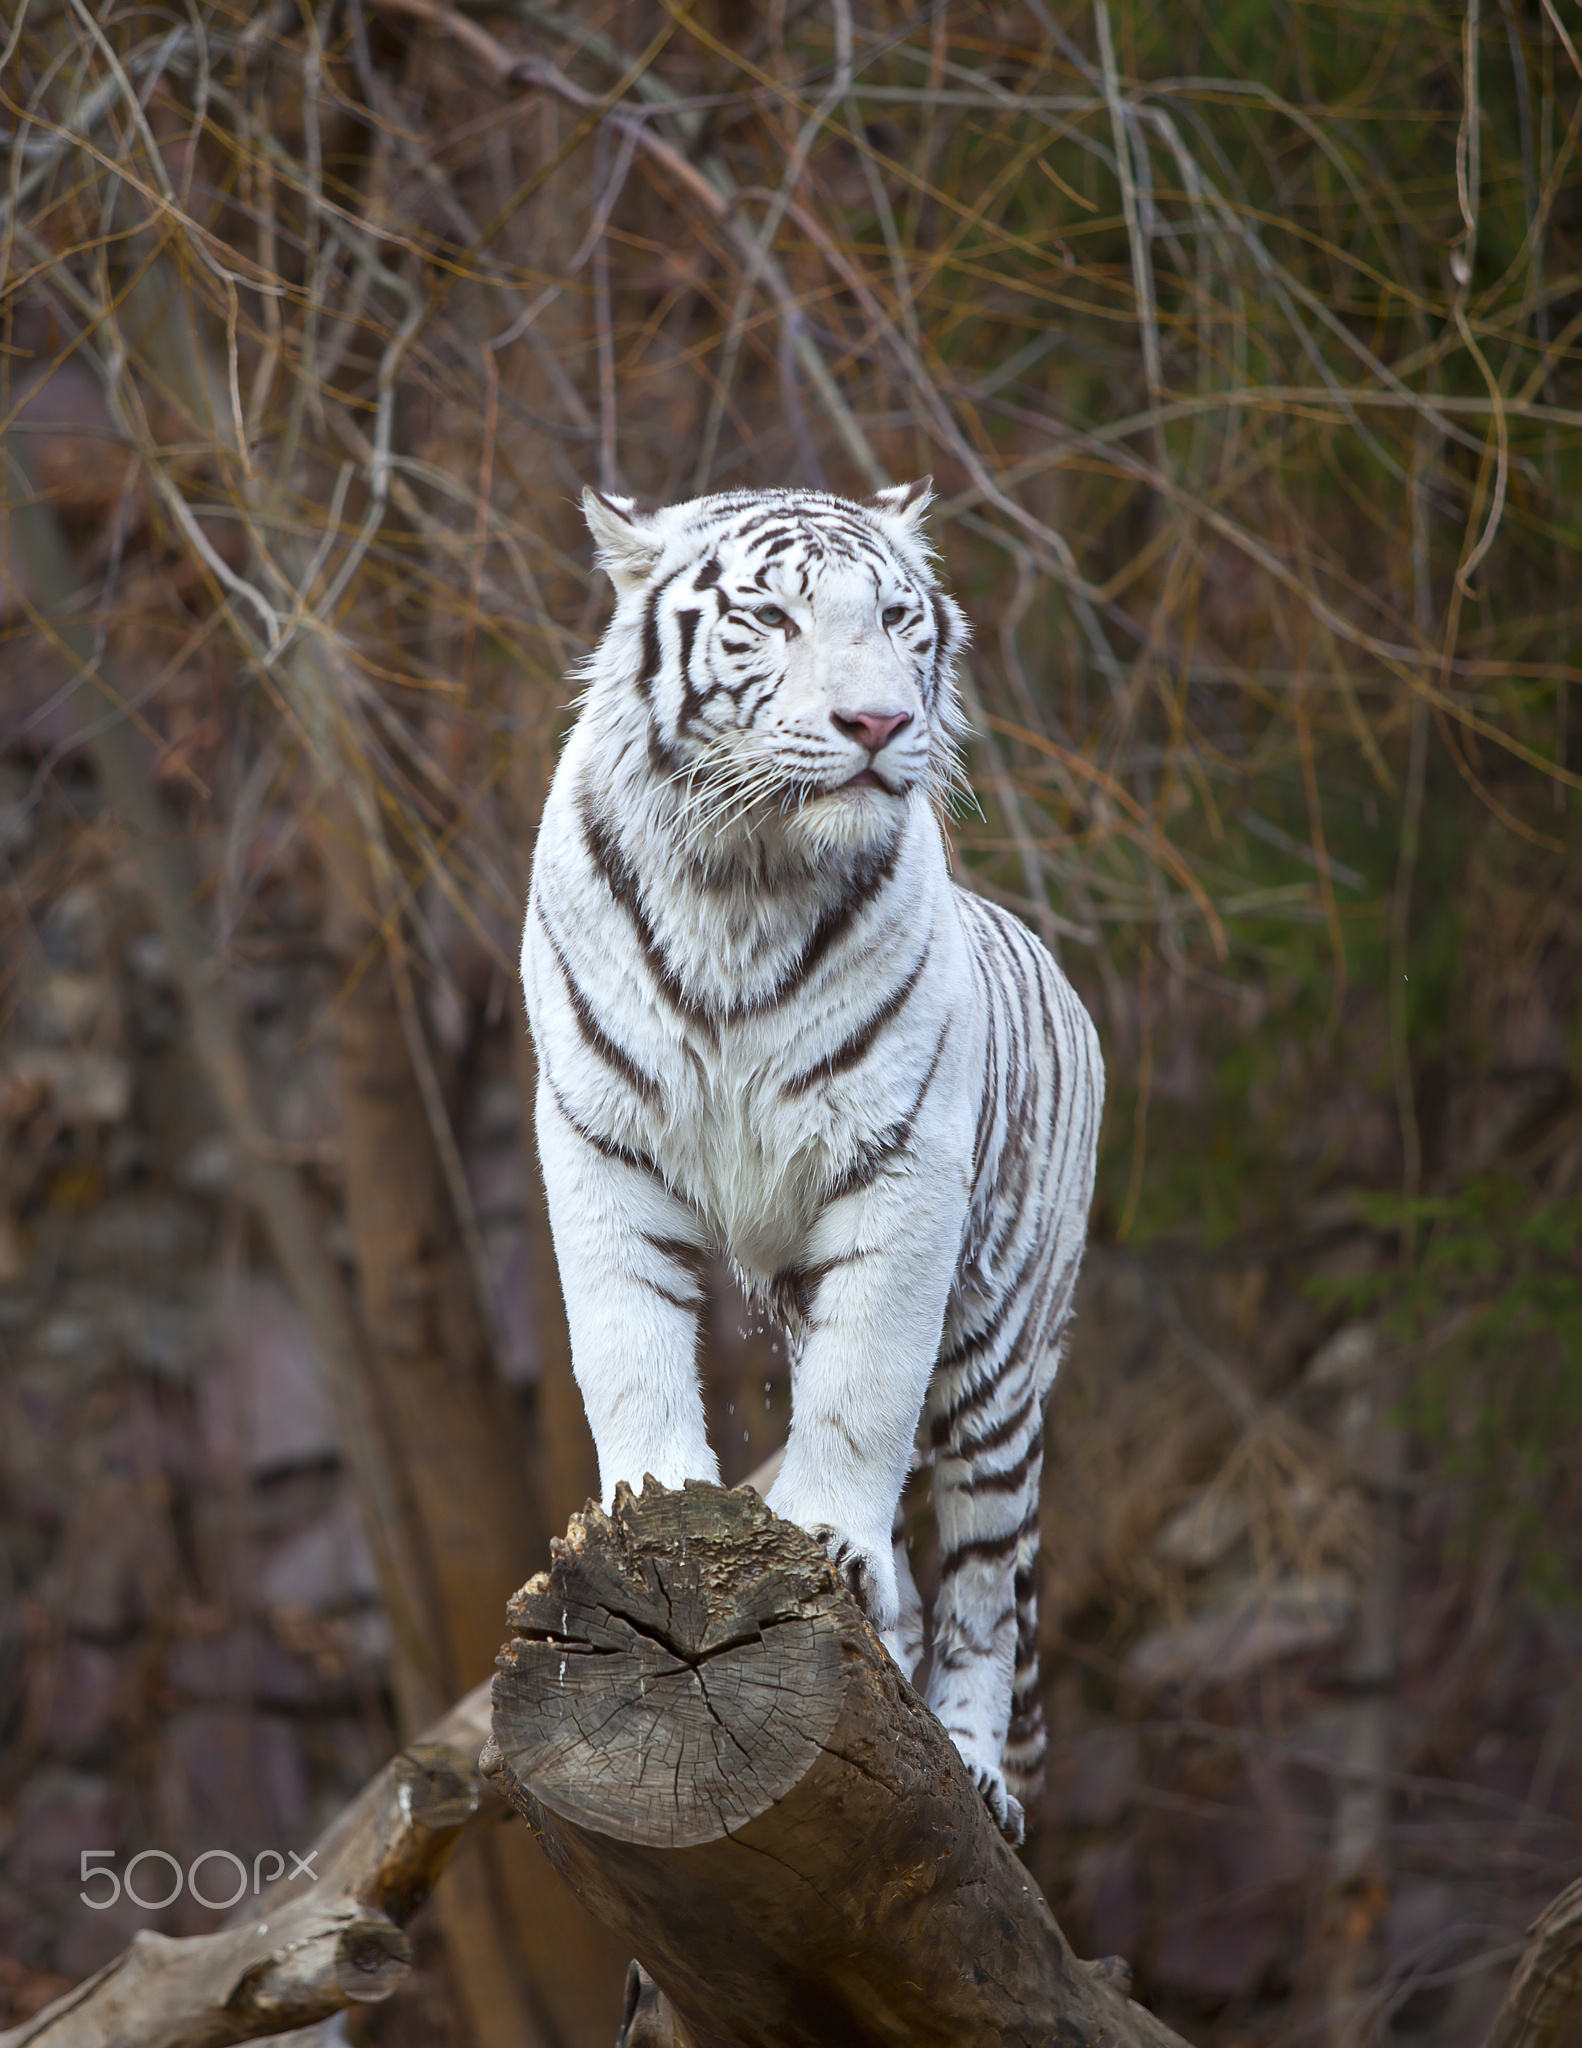tiger: (497, 493, 1133, 1867)
